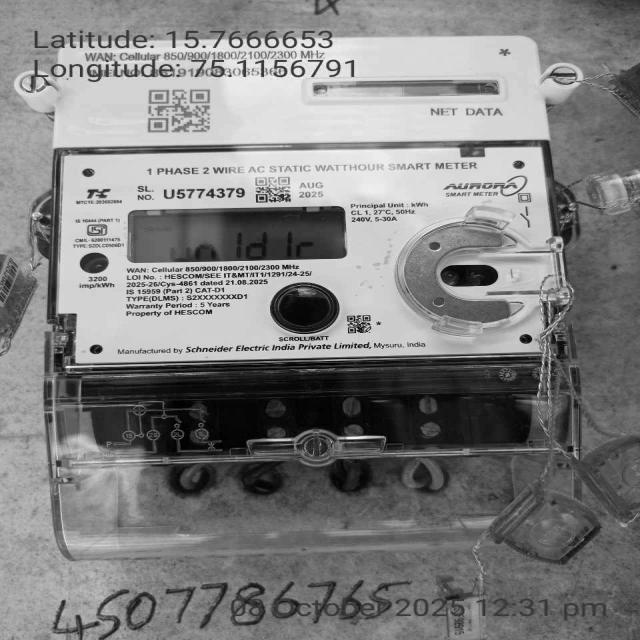meter: (58, 35, 572, 358)
